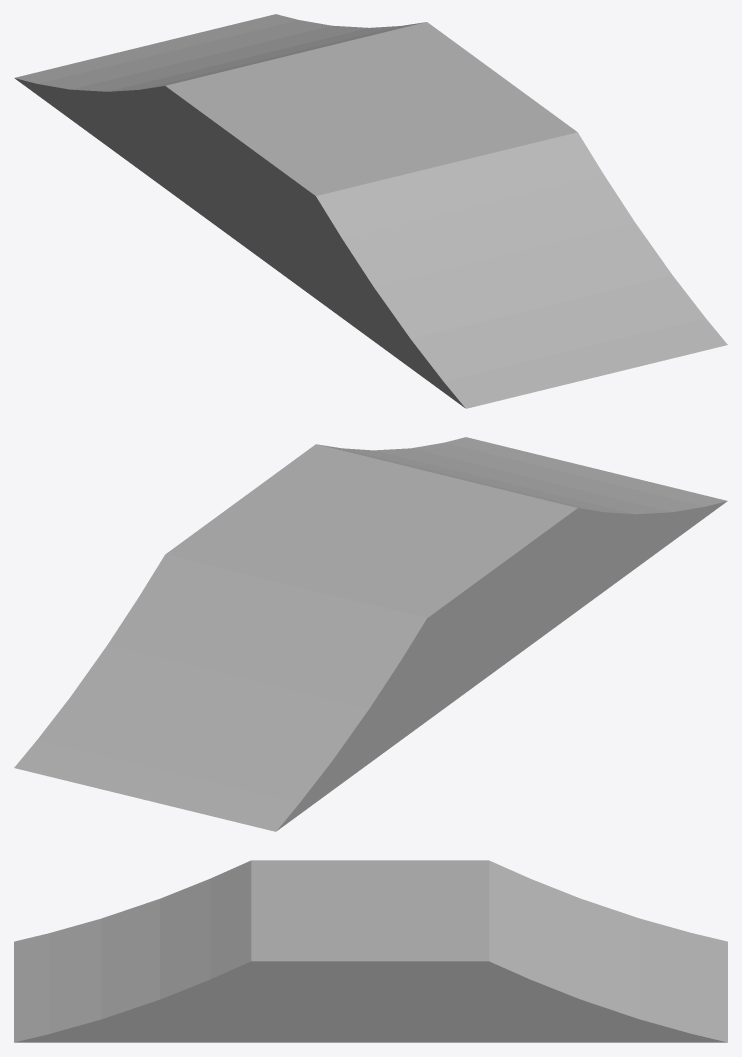
The model's file is FloatingEsmeralda.fbx.
3 renders of one model, top to bottom at view 1: azimuth 30°, elevation 25°; view 2: azimuth 150°, elevation 25°; view 3: azimuth 270°, elevation 25°, orthographic. The views are drawn at different scales.
Visible parts, largest first — view 1: FloatingEsmeralda; view 2: FloatingEsmeralda; view 3: FloatingEsmeralda.
Boxes of the visible parts, x1,y1,x2,y2 form: FloatingEsmeralda: (14,14,727,408); FloatingEsmeralda: (14,437,727,831); FloatingEsmeralda: (14,860,727,1042).
Size of what is drawn, in the model's own units: 8 by 23.92 by 3.
